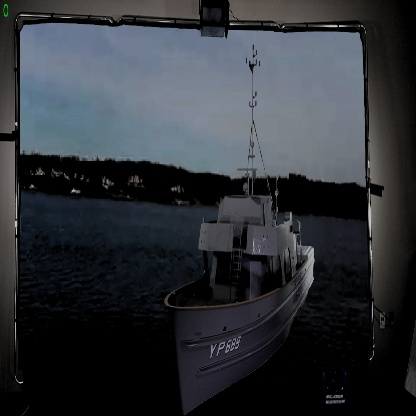YP689: (163, 48, 315, 414)
